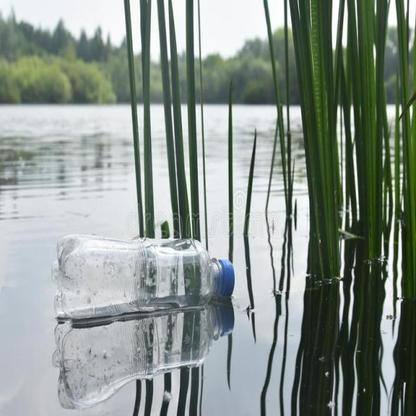plastic bottle: (51, 234, 235, 316)
